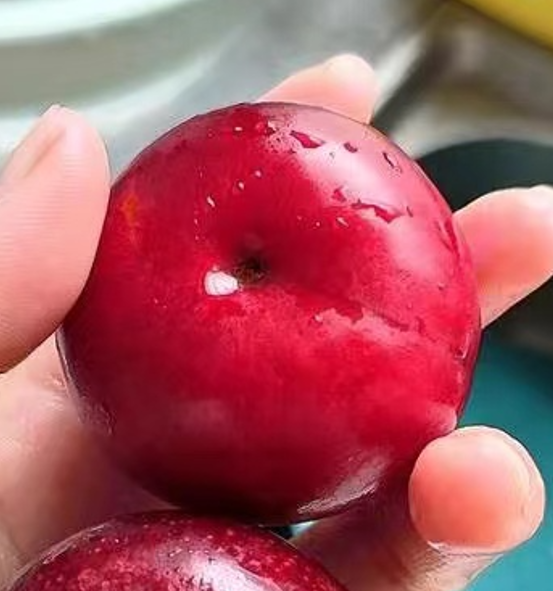plum_B: (53, 104, 484, 529)
